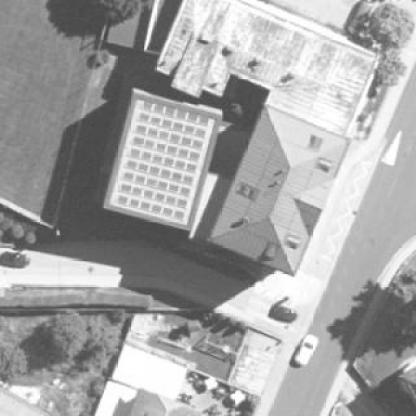solar-pv-panel: (137, 112, 207, 139), (133, 123, 202, 150), (125, 159, 194, 186), (130, 136, 200, 162), (128, 147, 197, 173), (115, 194, 184, 220), (140, 100, 209, 126), (118, 183, 187, 209), (122, 171, 191, 197)
